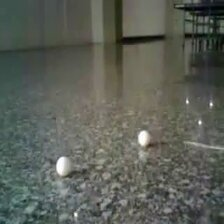w: (54, 156, 73, 176), (136, 130, 152, 146)
